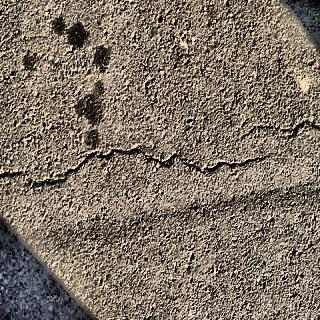crack: (0, 150, 272, 186), (234, 118, 320, 148)
